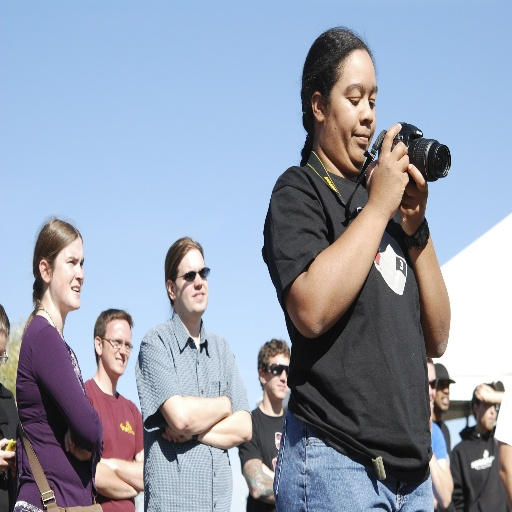hand: (378, 128, 425, 205), (398, 163, 430, 236), (62, 427, 92, 463), (160, 423, 190, 446), (0, 436, 16, 471), (474, 382, 496, 404), (428, 398, 433, 433), (98, 457, 112, 467), (260, 461, 270, 473), (136, 448, 144, 462)
